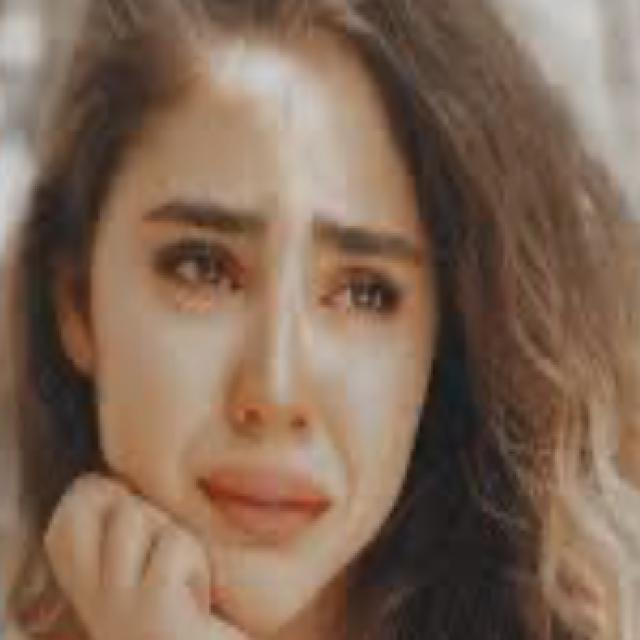sad: (77, 101, 465, 610)
